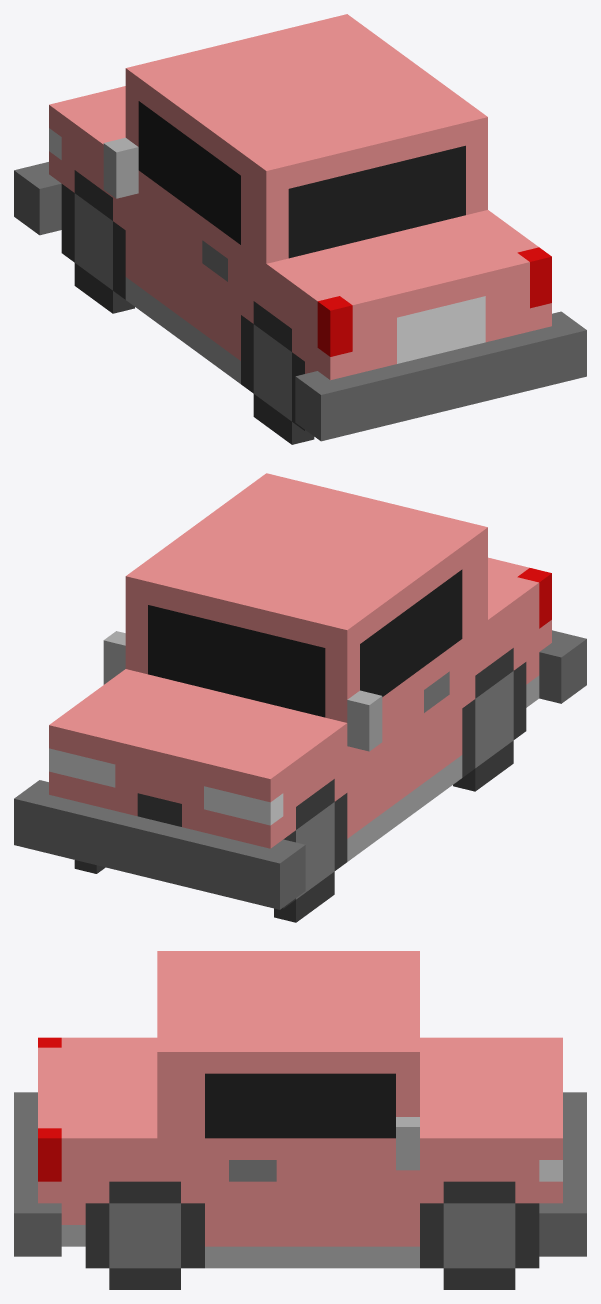
Rendered from veh_mini2.obj.
The picture shows the model from 3 angles, top to bottom: view 1: azimuth 30°, elevation 25°; view 2: azimuth 150°, elevation 25°; view 3: azimuth 270°, elevation 25°; orthographic projection. The views are drawn at different scales.
Size of the model in its own units: 12 by 11 by 24.
1 material, 1 textured.
